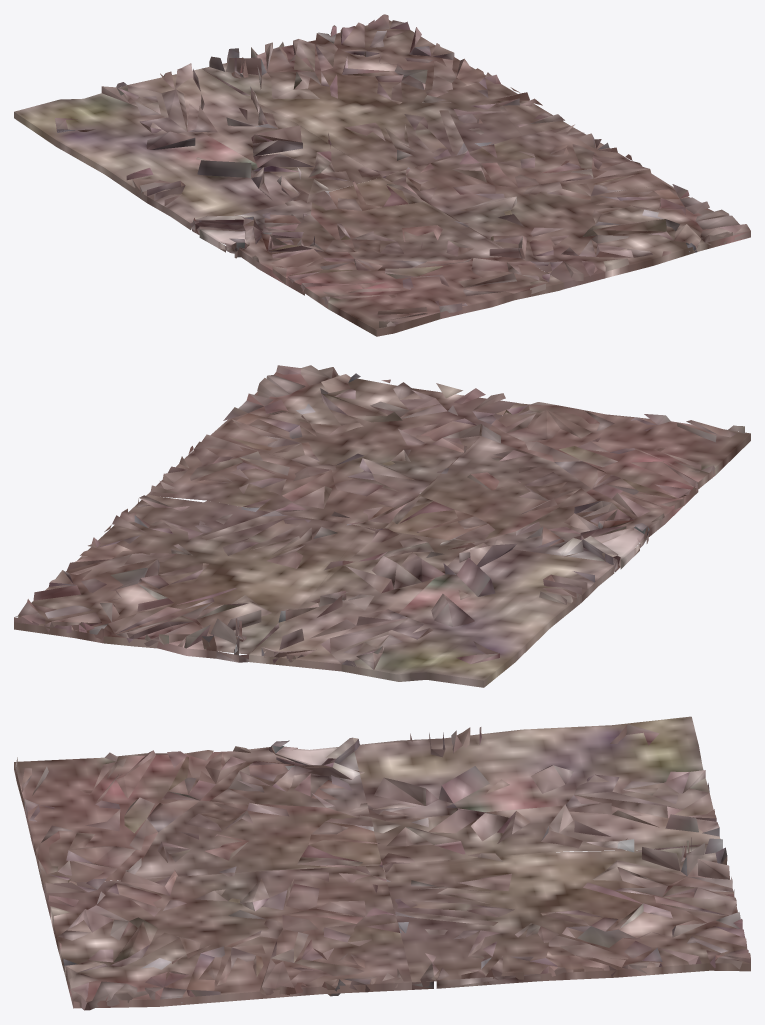
The picture shows the model from 3 angles, top to bottom: view 1: azimuth 30°, elevation 25°; view 2: azimuth 150°, elevation 25°; view 3: azimuth 270°, elevation 25°; orthographic projection. The views are drawn at different scales.
Parts seen in each view (by area): view 1: Mesh_0; view 2: Mesh_0; view 3: Mesh_0.
Part boxes in pixels (box(x1,y1,x2,y2)): Mesh_0: box(14, 14, 750, 336); Mesh_0: box(14, 365, 750, 687); Mesh_0: box(14, 716, 750, 1010).
Size of the model in its own units: 1066 by 90.13 by 1318.
1 material, 1 textured.
